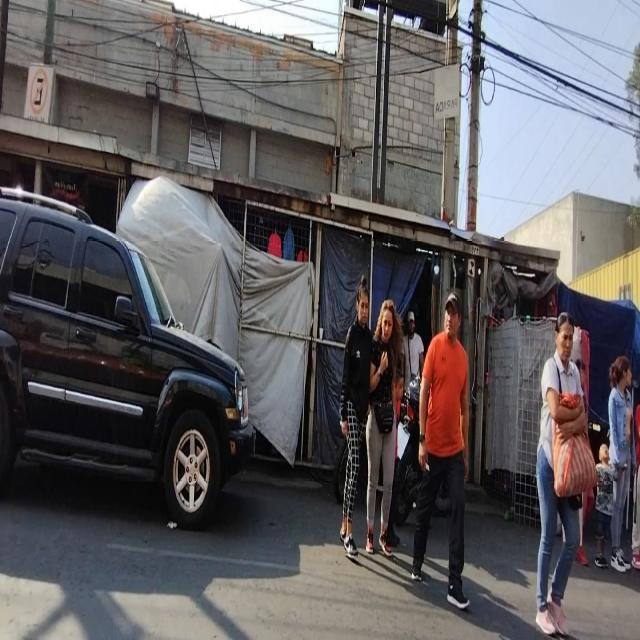adult: (412, 292, 472, 612), (536, 312, 586, 637), (338, 277, 373, 559), (364, 301, 398, 557), (608, 355, 634, 570), (403, 308, 425, 389)
